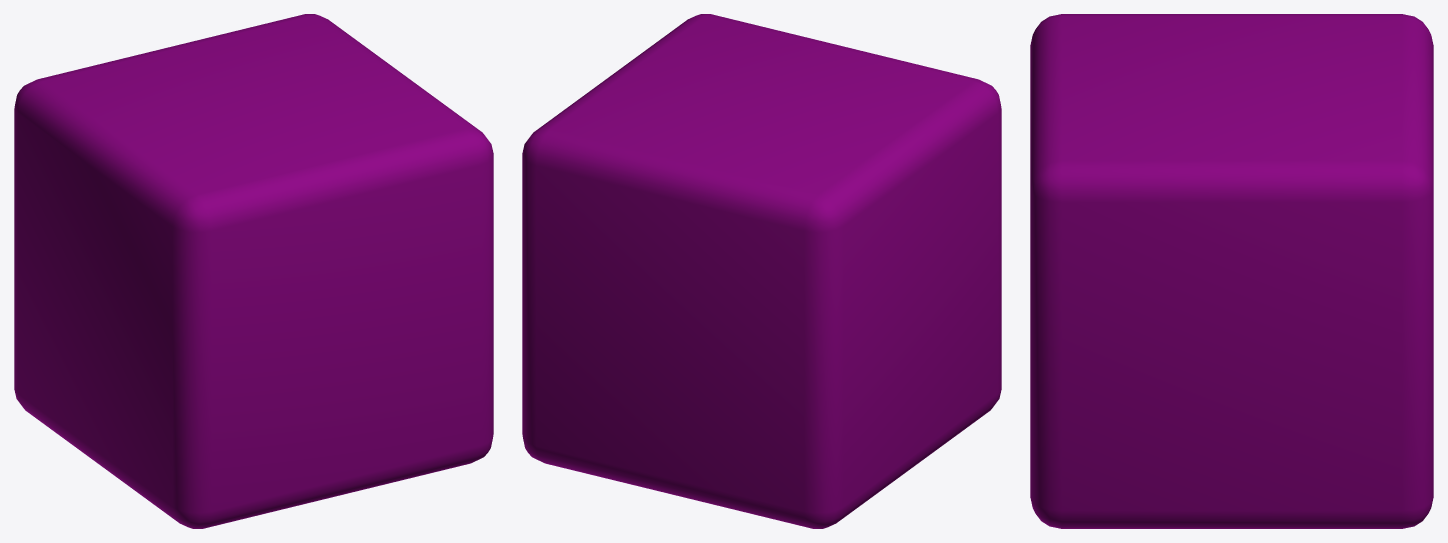
Rendered from 2pembe.fbx.
3 renders of one model, left to right at view 1: azimuth 30°, elevation 25°; view 2: azimuth 150°, elevation 25°; view 3: azimuth 270°, elevation 25°, orthographic. The views are drawn at different scales.
Visible parts, largest first — view 1: Cube.012; view 2: Cube.012; view 3: Cube.012.
Part boxes in pixels (<box>): Cube.012: <box>14,14,493,528</box>; Cube.012: <box>522,14,1001,528</box>; Cube.012: <box>1030,14,1433,528</box>.
Bounding box in the file's own units: 200 × 200 × 200.
